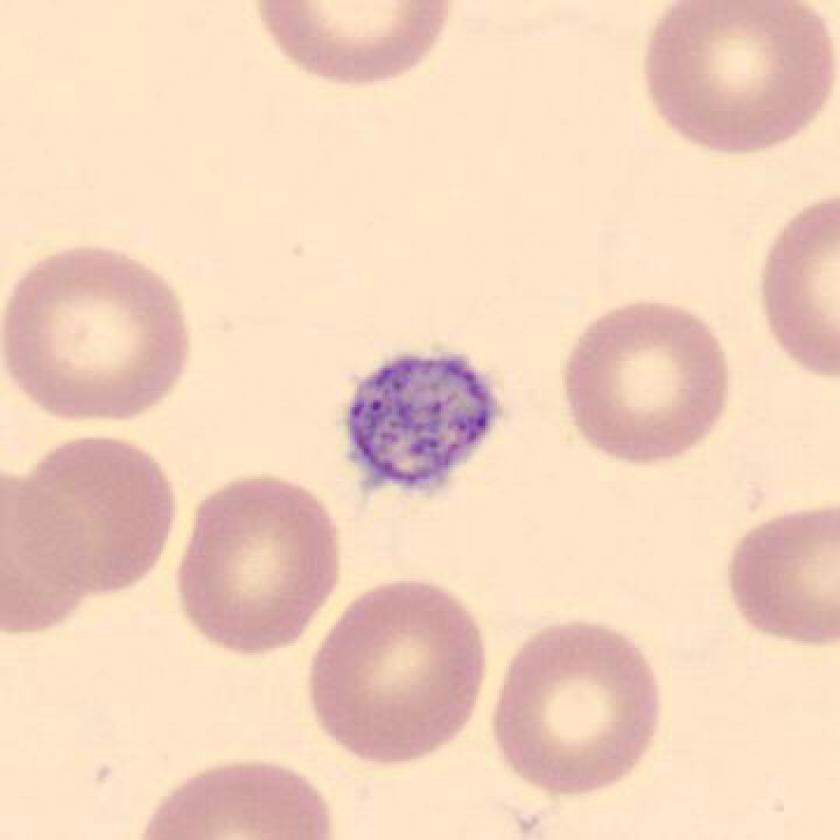platelets: (337, 344, 512, 515)
